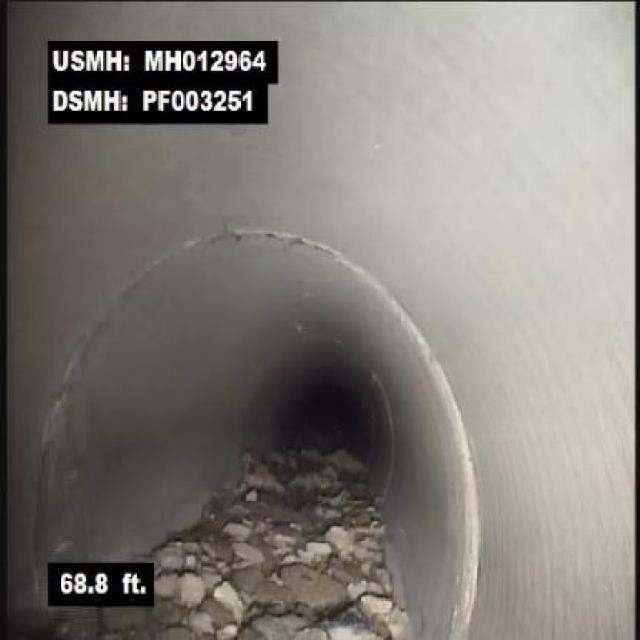Obstacle: (278, 443, 412, 639), (157, 463, 272, 639)
